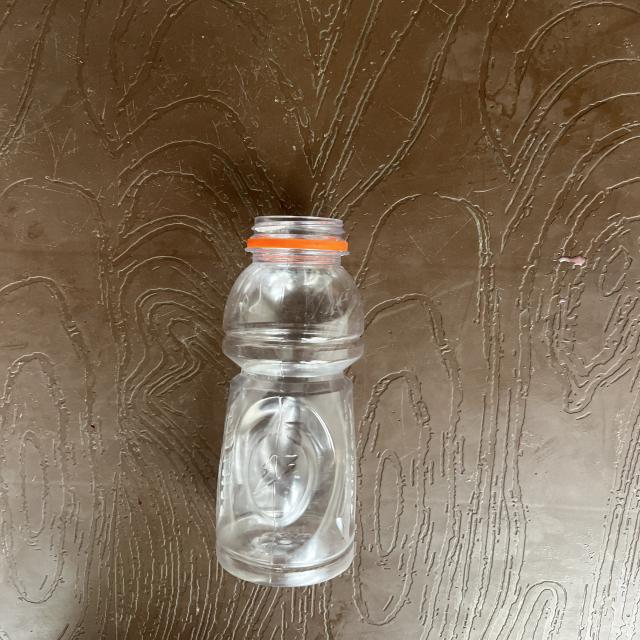PET_With_Cap: (216, 208, 361, 593)
